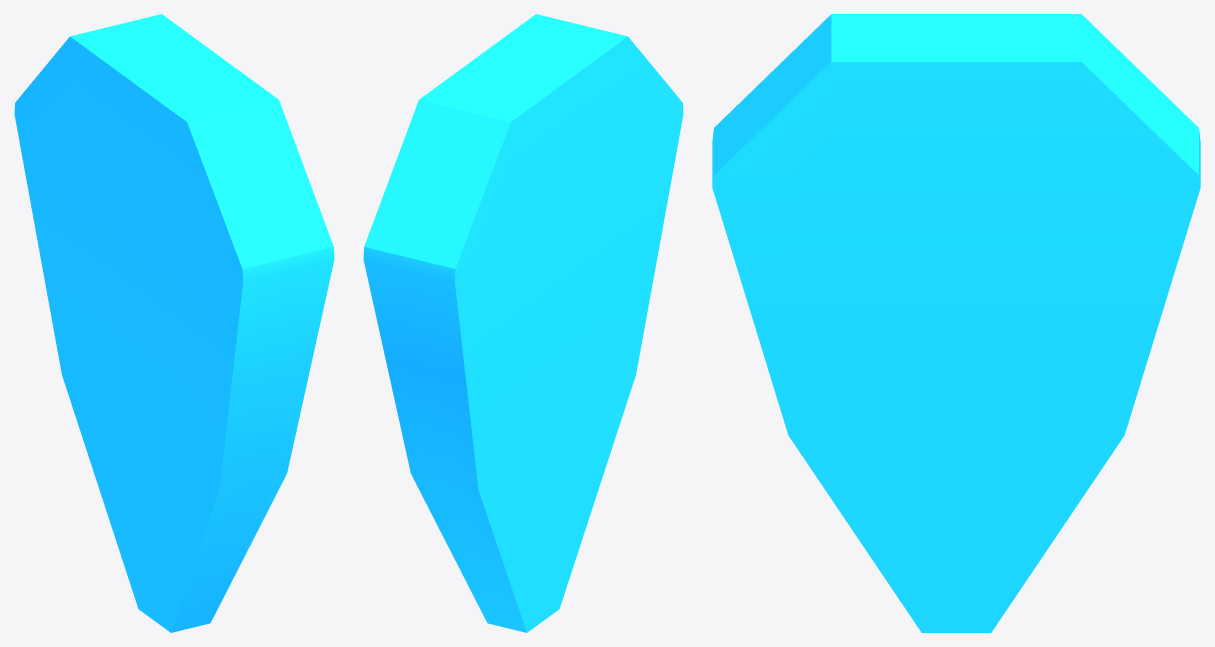
Rendered from ESCUDO.fbx.
3 renders of one model, left to right at view 1: azimuth 30°, elevation 25°; view 2: azimuth 150°, elevation 25°; view 3: azimuth 270°, elevation 25°, orthographic. The views are drawn at different scales.
Parts seen in each view (by area): view 1: Cube; view 2: Cube; view 3: Cube.
Part boxes in pixels (x1=…): Cube: x1=14, y1=14, x2=334, y2=632; Cube: x1=363, y1=14, x2=683, y2=632; Cube: x1=712, y1=14, x2=1200, y2=632.
Size of the model in its own units: 40.52 by 231 by 175.
